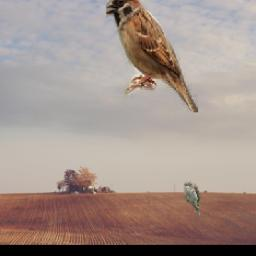Cuckoo: (184, 180, 201, 215)
Sparrow: (106, 0, 198, 113)
